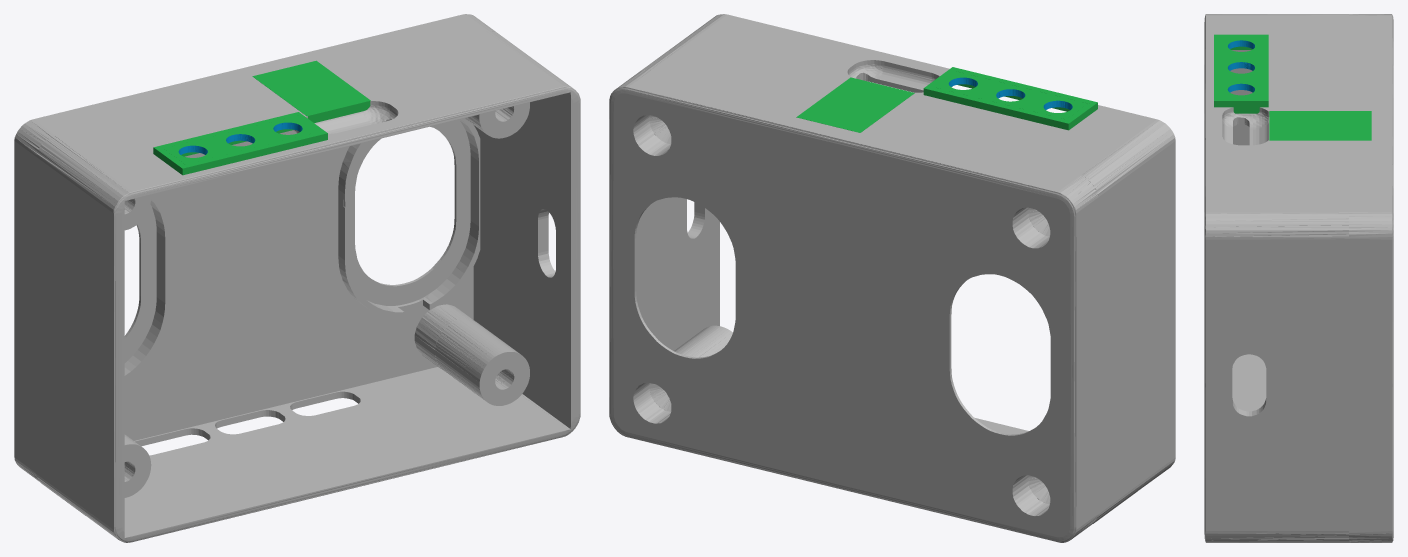
Rendered from tinker.obj.
3 views of the same model, side by side, from view 1: azimuth 30°, elevation 25°; view 2: azimuth 150°, elevation 25°; view 3: azimuth 270°, elevation 25° (orthographic). The views are drawn at different scales.
Visible parts, largest first — view 1: Object.1; view 2: Object.1; view 3: Object.1.
Boxes of the visible parts, left/top/right/bottom form: Object.1: left=14, top=14, right=580, bottom=542; Object.1: left=609, top=14, right=1175, bottom=542; Object.1: left=1204, top=14, right=1393, bottom=542.
Bounding box in the file's own units: 73.94 × 53.98 × 27.66.
